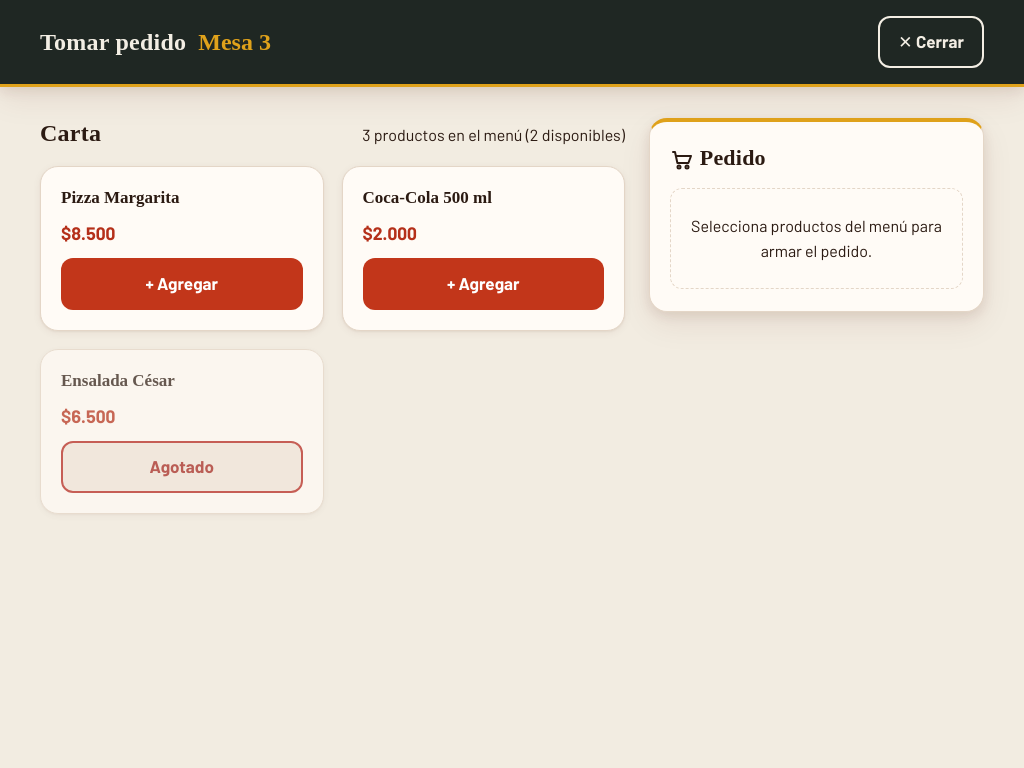
Test: TomaPedido: disponibilidad (US-04 CA1-CA3) › un producto disponible se agrega al carrito
Expected: the text "Pizza Margarita" is shown, [61,187,180,209]
Click the button with id "btn-agregar-1": (182, 284) [61,258,302,310]
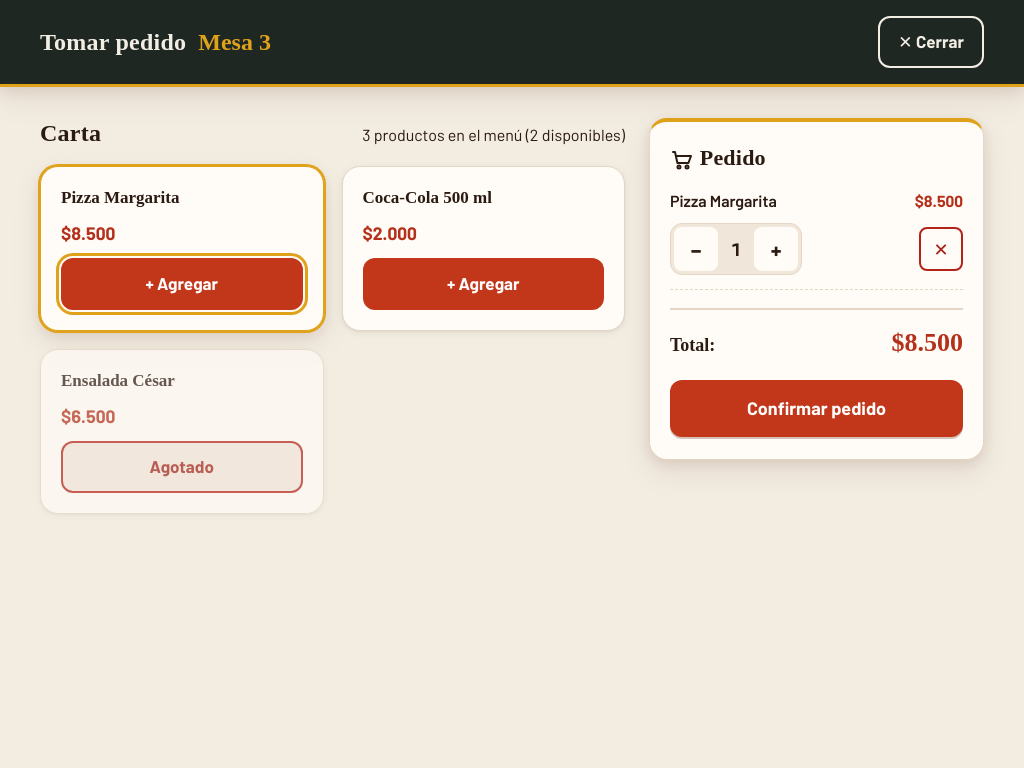
Result: the list item with id "carrito-item-1" is shown at [670,188,963,290]
Result: the text with id "cantidad-1" reads "1" at [731,238,741,260]
